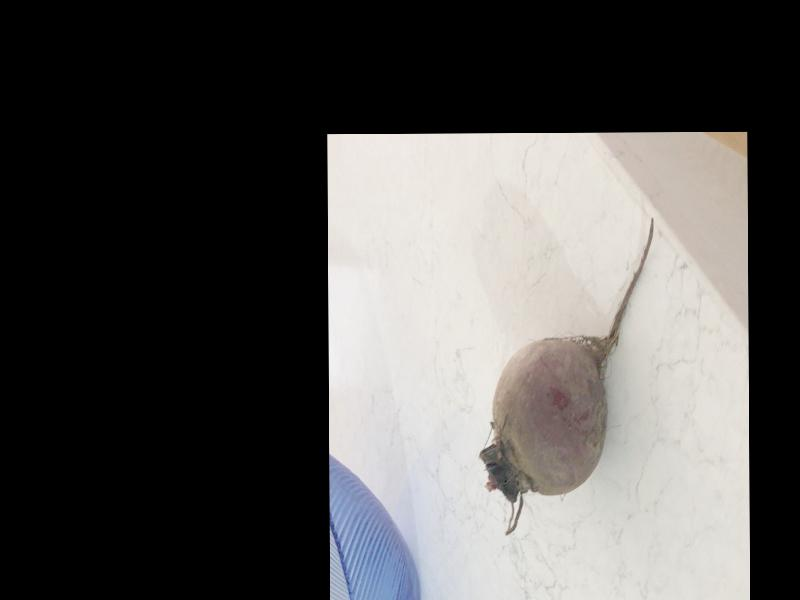Beet: (479, 219, 656, 533)
